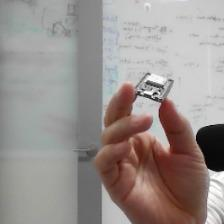esp32: (127, 66, 179, 108)
